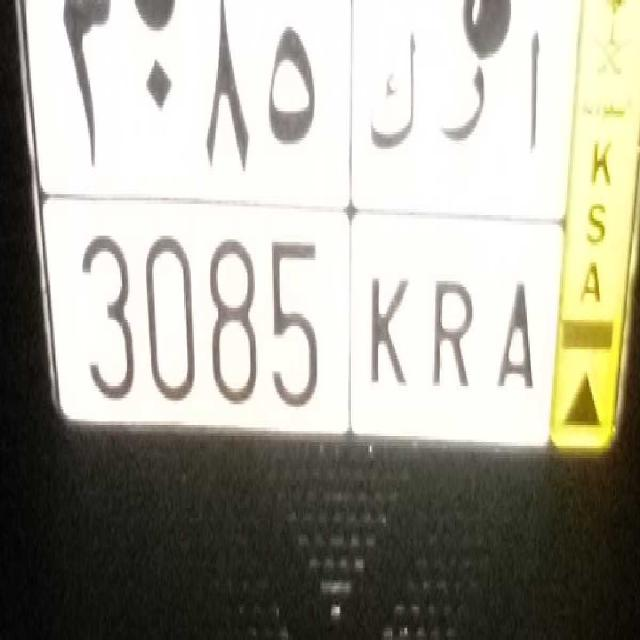license_plate: (56, 188, 552, 477)
